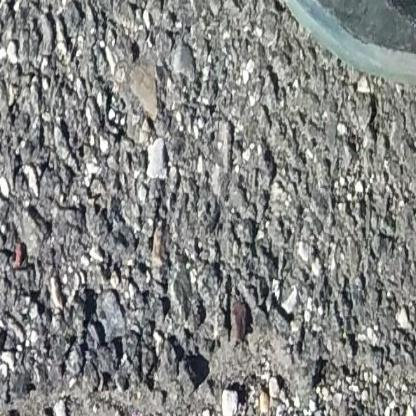Cracks: (0, 329, 416, 416)
